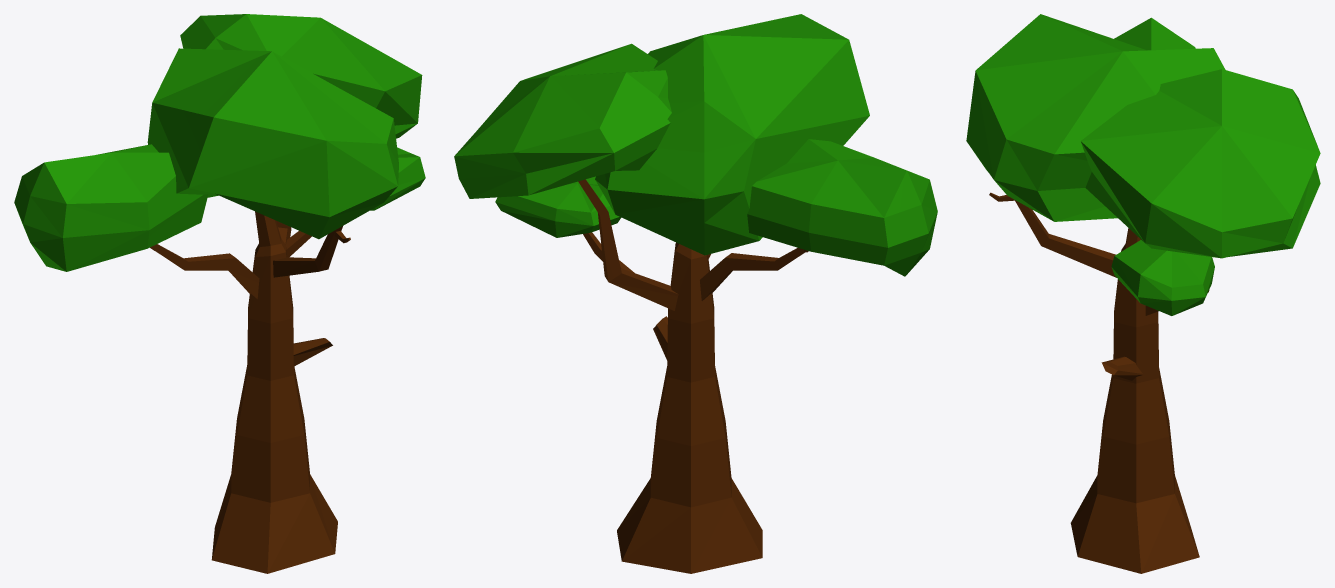
Rendered from Tree_temp_climate_001.FBX.
3 views of the same model, side by side, from view 1: azimuth 30°, elevation 25°; view 2: azimuth 150°, elevation 25°; view 3: azimuth 270°, elevation 25° (orthographic). The views are drawn at different scales.
Visible parts, largest first — view 1: Tree_temp_climate_001; view 2: Tree_temp_climate_001; view 3: Tree_temp_climate_001.
Part boxes in pixels (<box>): Tree_temp_climate_001: <box>14,14,425,573</box>; Tree_temp_climate_001: <box>454,14,937,573</box>; Tree_temp_climate_001: <box>966,14,1320,573</box>.
Size of the model in its own units: 453 by 526 by 347.
